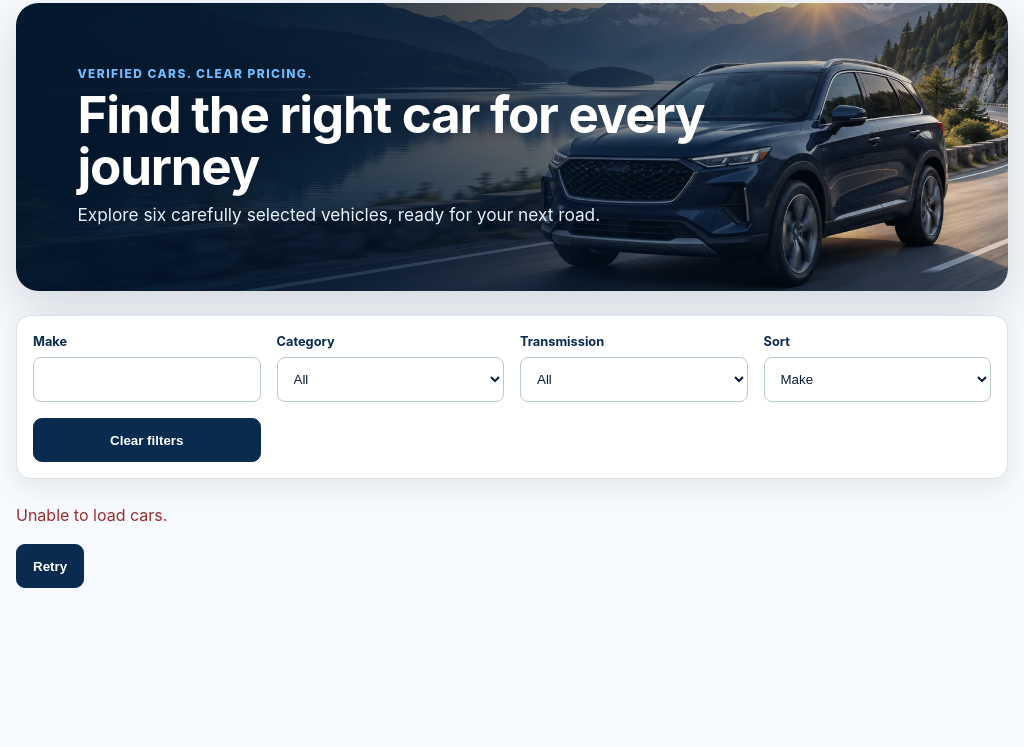
Scenario: cars page › retries errors
The width and height of the screenshot is (1024, 747).
Click the button "Retry" at (50, 566), box [16,544,84,588]
(page scrolled)
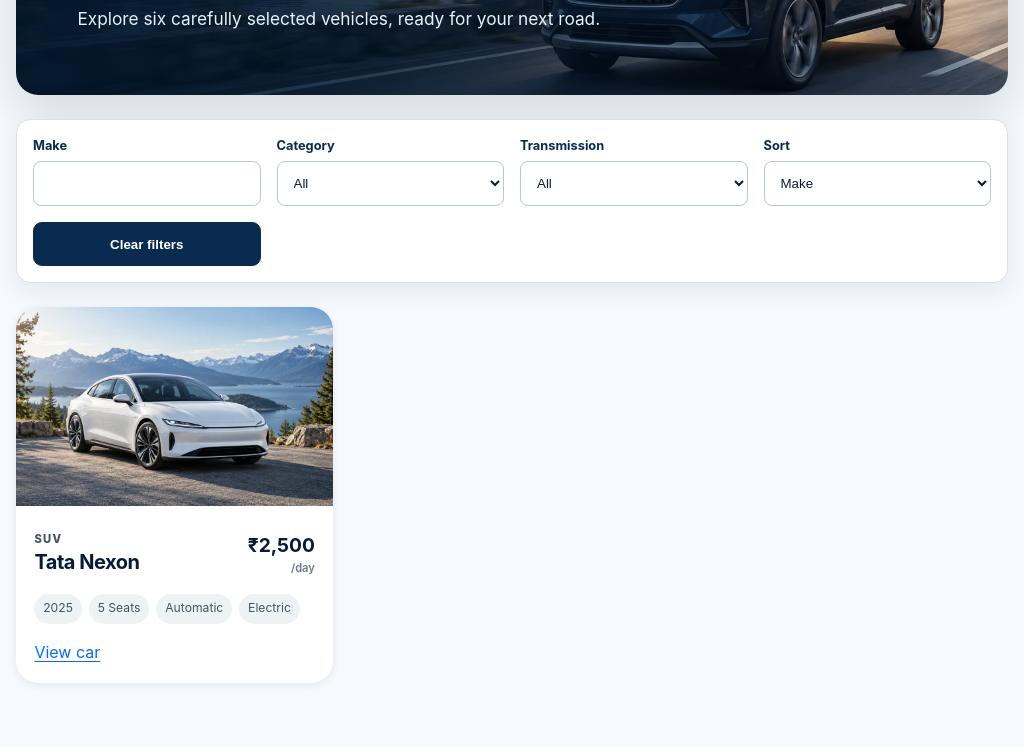
Check: the heading "Tata Nexon" is shown, box [34,551,139,574]
